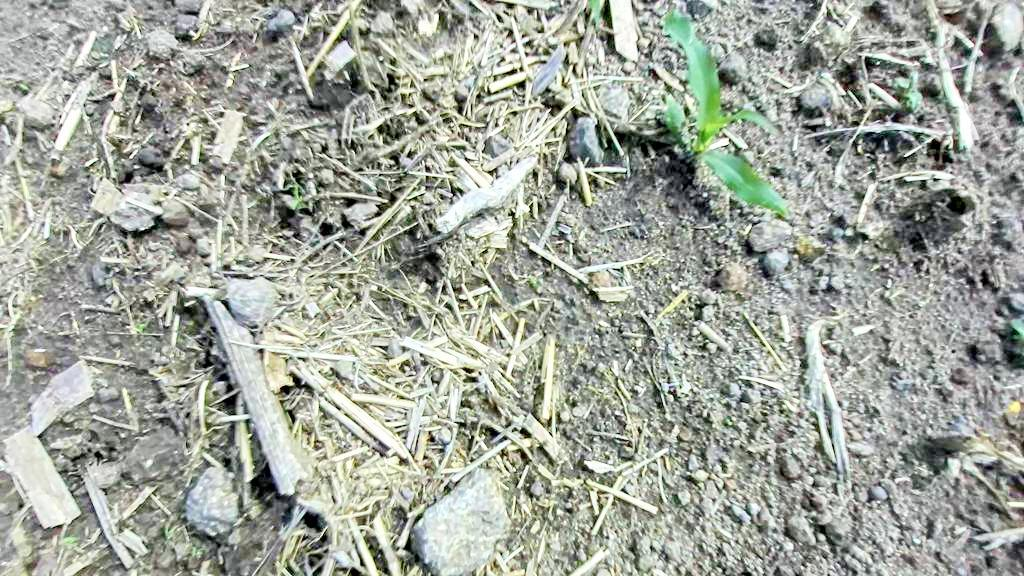BroWeed: (281, 180, 306, 212), (905, 69, 922, 115), (943, 448, 966, 479), (159, 516, 181, 542), (795, 236, 814, 257), (886, 74, 910, 90), (189, 543, 205, 560), (60, 537, 80, 547), (831, 227, 844, 242), (0, 98, 12, 114), (527, 273, 539, 288), (133, 321, 145, 334), (1009, 402, 1022, 414), (16, 82, 30, 92)
Maize: (609, 2, 825, 240)
